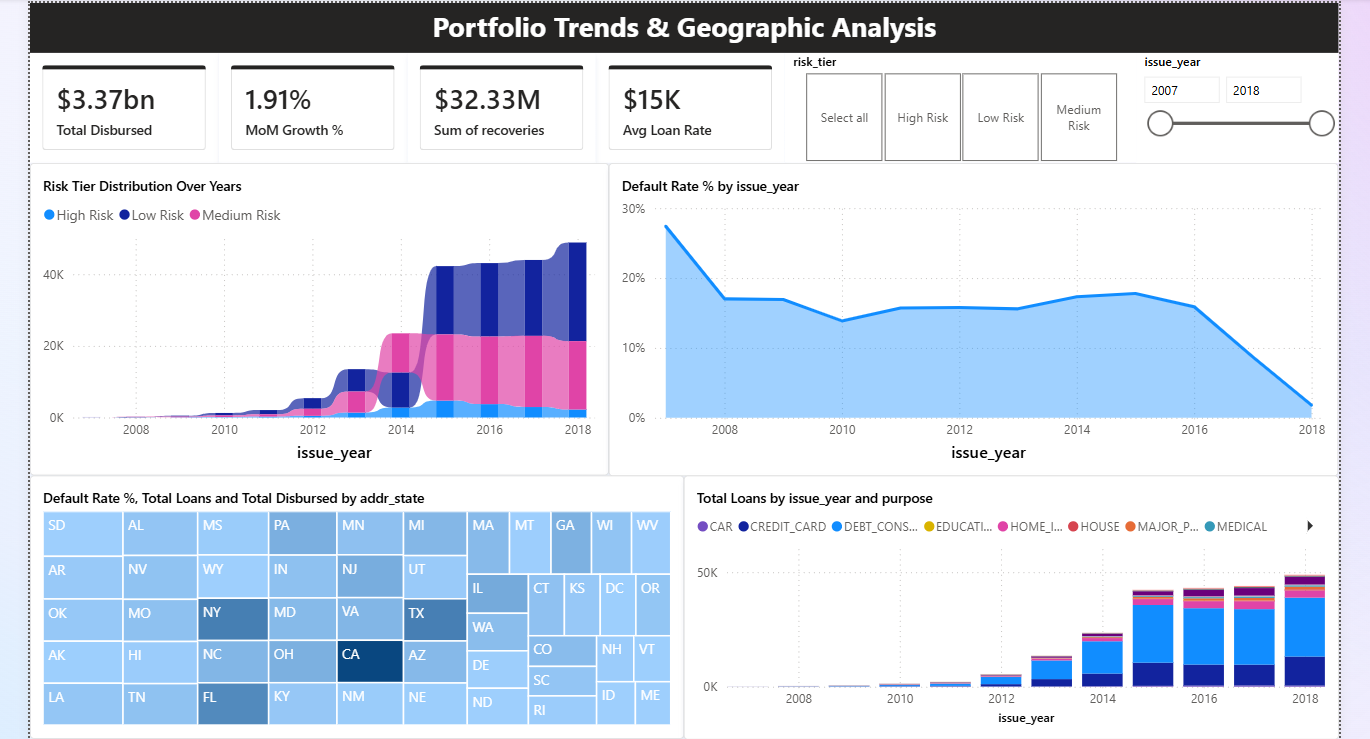

Layout of this report page (visuals, bound fields, positions):
{"tool":"powerbi","page":{"name":"Portfolio Trends","canvas":[1280,720],"ordinal":2},"visuals":[{"type":"textbox","box":[0,0,1280.3,48.9],"z":0},{"type":"cardVisual","fields":{"Data":["loan_data.Total Disbursed"]},"box":[0,48.9,184.6,107.6],"z":1000},{"type":"cardVisual","fields":{"Data":["loan_data.MoM Growth %"]},"box":[184.6,48.9,184.6,107.6],"z":2000},{"type":"cardVisual","fields":{"Data":["loan_data.Avg Loan Rate"]},"box":[553.9,48.9,184.6,107.6],"z":3000},{"type":"cardVisual","fields":{"Data":["Sum(loan_data.recoveries)"]},"box":[369.3,48.9,184.6,107.6],"z":4000},{"type":"ribbonChart","title":"Risk Tier Distribution Over Years","fields":{"Category":["loan_data.issue_year"],"Y":["loan_data.Total Loans"],"Series":["loan_data.risk_tier"]},"box":[0,156.5,566.2,305.7],"z":5000},{"type":"areaChart","fields":{"Category":["loan_data.issue_year"],"Y":["loan_data.Default Rate %"]},"box":[566.2,156.2,713.8,306.2],"z":6000},{"type":"treemap","fields":{"Group":["loan_data.addr_state"],"Values":["loan_data.Default Rate %"]},"box":[0,462.5,640,257.5],"z":7000},{"type":"columnChart","fields":{"Category":["loan_data.issue_year"],"Series":["loan_data.purpose"],"Y":["loan_data.Total Loans"]},"box":[639.5,462.2,640.8,258],"z":8000},{"type":"slicer","fields":{"Values":["loan_data.issue_year"]},"box":[1082.5,48.8,197.5,107.5],"z":9000},{"type":"slicer","fields":{"Values":["loan_data.risk_tier"]},"box":[738.8,48.8,343.8,107.5],"z":10000}]}

Visuals, with their boxes on the page's 1280x720 design canvas (x1, y1, x2, y2). These are canvas units, not pixel positions in the 1370x739 screenshot, which may show the page scaled, cropped or inside an application window:
textbox: select_region(0, 0, 1280, 49)
cardVisual - loan_data.Total Disbursed: select_region(0, 49, 185, 156)
cardVisual - loan_data.MoM Growth %: select_region(185, 49, 369, 156)
cardVisual - loan_data.Avg Loan Rate: select_region(554, 49, 738, 156)
cardVisual - Sum(loan_data.recoveries): select_region(369, 49, 554, 156)
"Risk Tier Distribution Over Years" ribbonChart: select_region(0, 156, 566, 462)
areaChart - loan_data.issue_year x loan_data.Default Rate %: select_region(566, 156, 1280, 462)
treemap - loan_data.addr_state x loan_data.Default Rate %: select_region(0, 462, 640, 720)
columnChart - loan_data.issue_year x loan_data.purpose: select_region(640, 462, 1280, 720)
slicer - loan_data.issue_year: select_region(1082, 49, 1280, 156)
slicer - loan_data.risk_tier: select_region(739, 49, 1083, 156)
